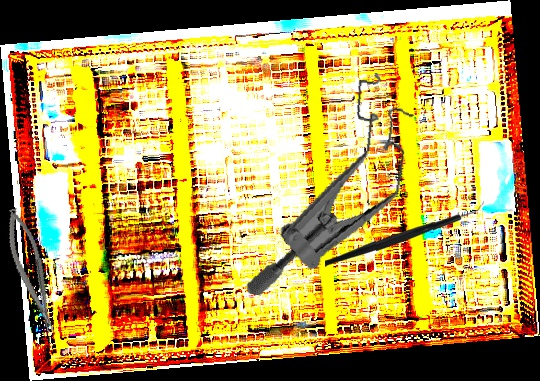Chopper: (325, 194, 484, 271)
Needle Holder: (0, 205, 61, 337)
Speculum: (243, 57, 423, 316)
